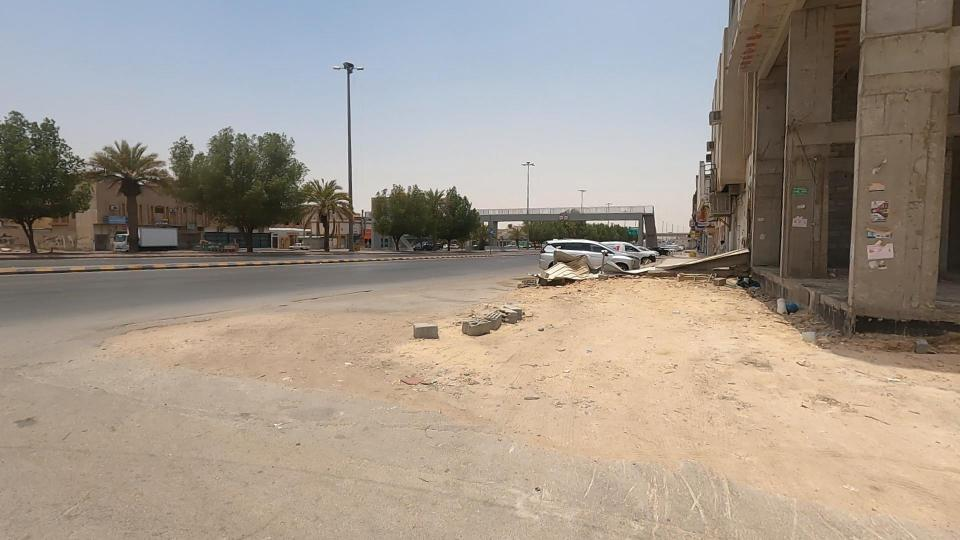GARBAGE: (498, 232, 613, 293), (678, 247, 785, 308), (740, 283, 824, 324)
